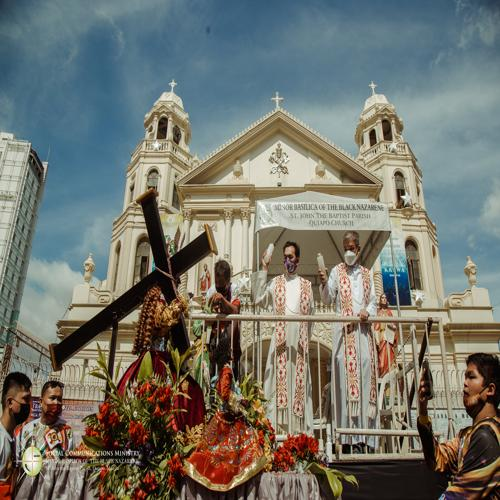Quiapo Church: (80, 51, 446, 449)
